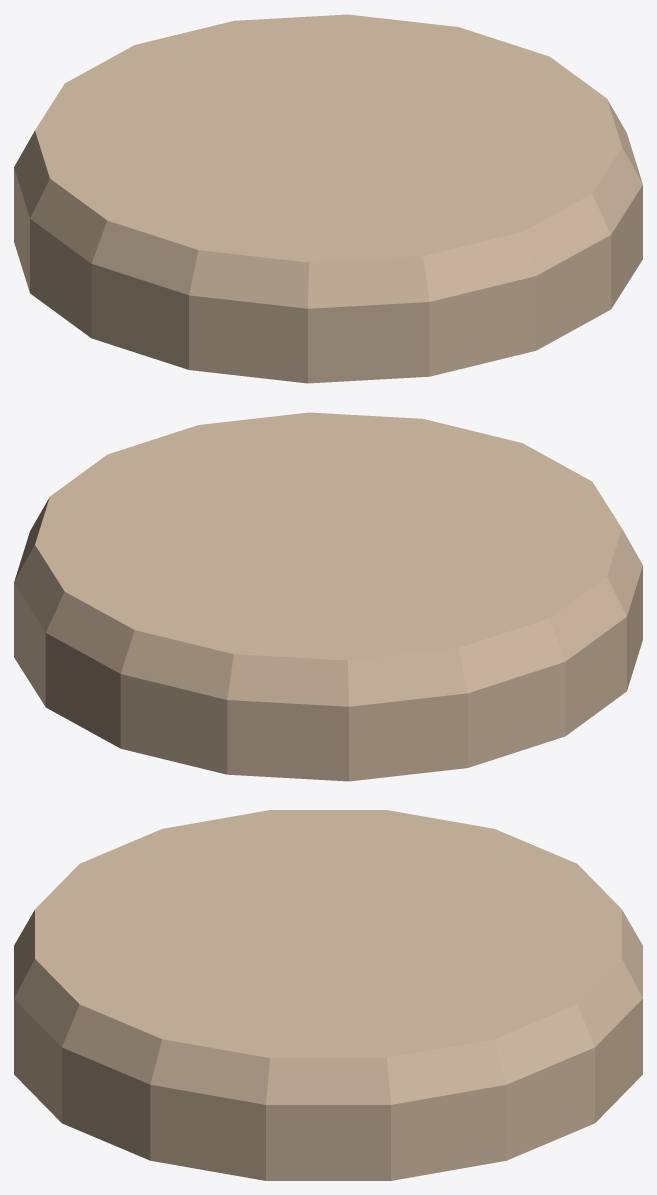
File: vega_adapter_s1p5_1_collider.obj
The picture shows the model from 3 angles, top to bottom: view 1: azimuth 30°, elevation 25°; view 2: azimuth 150°, elevation 25°; view 3: azimuth 270°, elevation 25°; orthographic projection.
Parts seen in each view (by area): view 1: collider; view 2: collider; view 3: collider.
Part boxes in pixels (x1,y1,x2,y2): collider: (14,14,642,383); collider: (14,412,642,781); collider: (14,810,642,1180).
Bounding box in the file's own units: 1.88 × 0.375 × 1.88.
